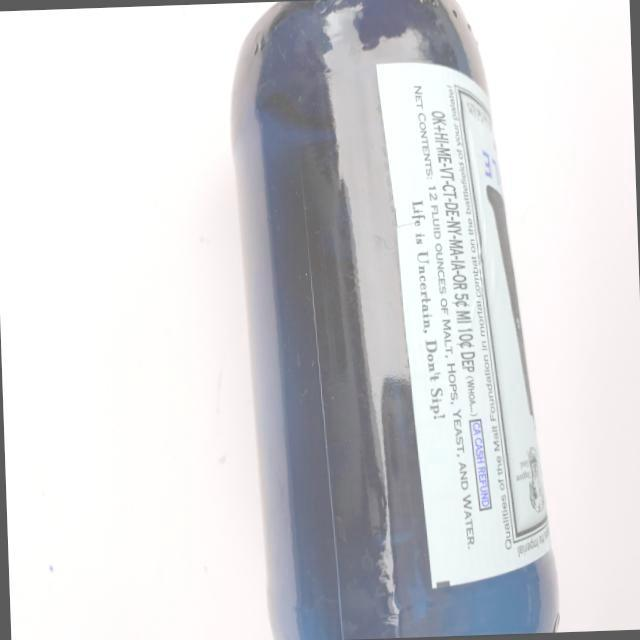glass: (198, 0, 600, 640)
